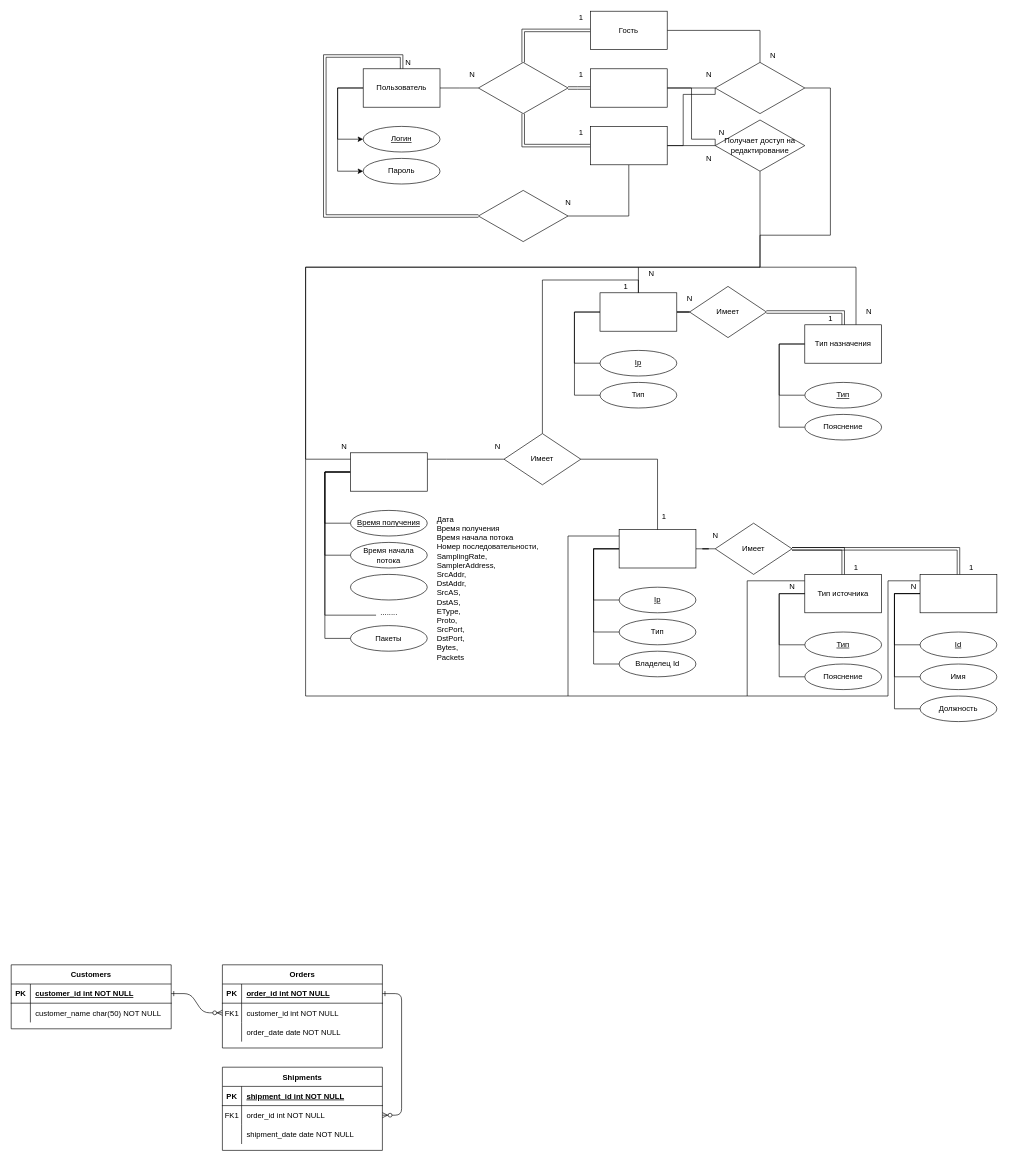
Some shapes in this 1009 by 1162 pixel diagram are drawn without their labels. Here are the shapes that lost their labels. From the top down, the centre of each, then its label:
point (523, 88): Имеет роль
point (628, 87): Аналитик
point (760, 88): Получает доступ на чтение
point (628, 145): Администратор
point (523, 216): Управляет
point (638, 311): Назначение
point (388, 471): Поток
point (657, 548): Источник
point (388, 587): Номер потока
point (958, 593): Владелец источника
